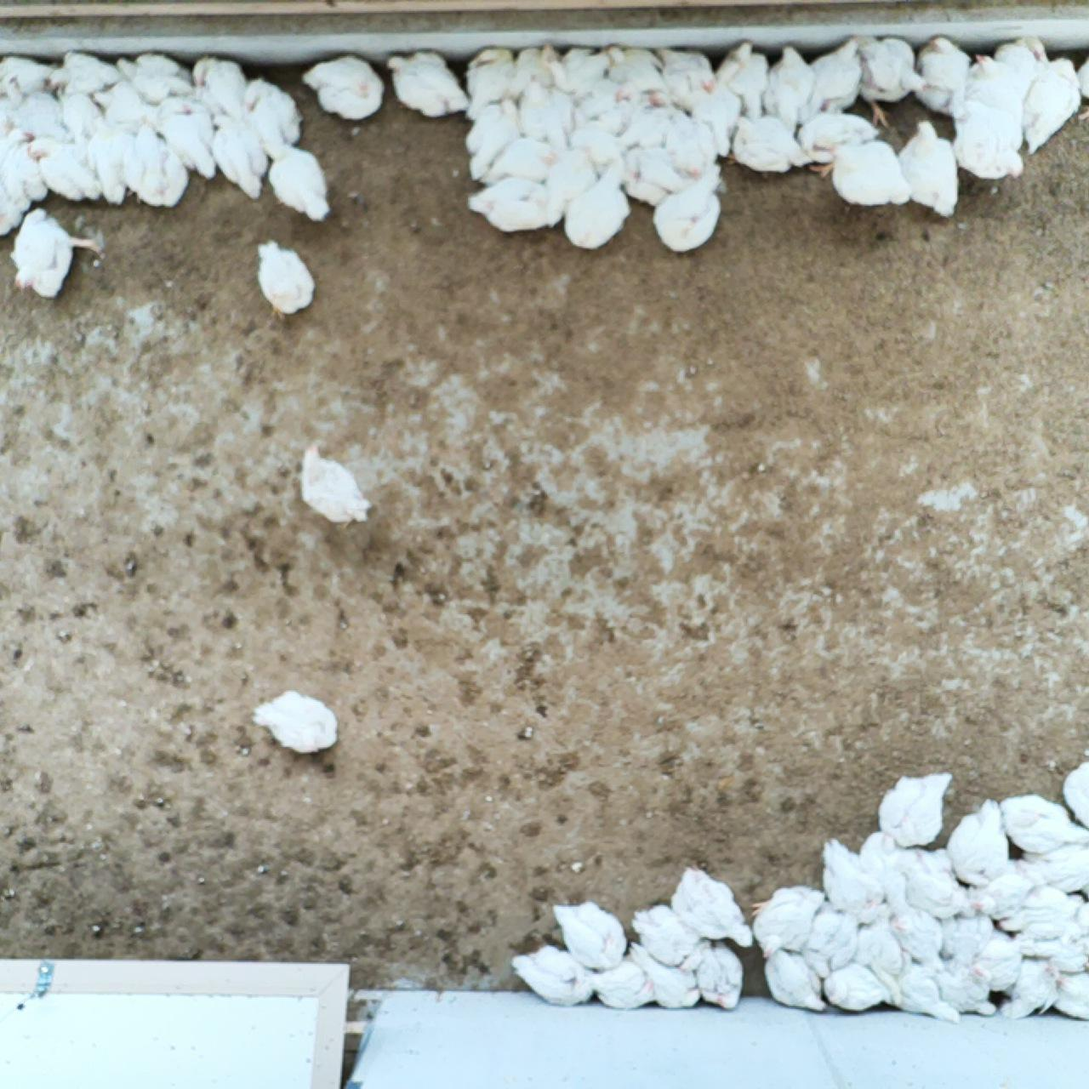chicken: (8, 203, 104, 304), (649, 159, 729, 261), (671, 860, 755, 956), (855, 30, 932, 134), (558, 155, 637, 253), (945, 94, 1029, 186), (259, 134, 340, 226), (894, 115, 962, 221), (941, 794, 1013, 894), (296, 439, 376, 527), (119, 115, 191, 211), (824, 136, 912, 214), (1020, 54, 1085, 158), (875, 767, 955, 851), (149, 94, 223, 183), (466, 175, 573, 236), (384, 47, 473, 120), (747, 882, 827, 963), (997, 785, 1089, 855), (546, 897, 628, 975), (299, 51, 386, 124), (820, 834, 887, 926), (253, 688, 343, 756), (623, 937, 704, 1012), (796, 109, 880, 181), (730, 109, 813, 181), (23, 133, 108, 203), (509, 941, 596, 1009), (891, 844, 968, 920), (210, 110, 272, 202), (893, 944, 964, 1024), (254, 236, 319, 323), (0, 125, 48, 242), (854, 906, 908, 1009), (762, 41, 818, 140), (798, 898, 862, 983), (466, 94, 524, 185), (241, 74, 306, 153), (957, 52, 1029, 123), (917, 30, 975, 118), (681, 936, 747, 1013), (84, 113, 137, 207), (113, 51, 197, 110), (519, 57, 575, 145), (1, 72, 70, 143), (763, 944, 830, 1017), (805, 34, 868, 111), (579, 953, 658, 1014), (718, 36, 773, 123), (462, 44, 521, 125), (998, 885, 1089, 937), (689, 72, 740, 163), (546, 143, 605, 221), (478, 135, 561, 190), (628, 899, 698, 964), (39, 46, 122, 97), (620, 138, 685, 202), (567, 107, 630, 173), (188, 53, 250, 120), (859, 828, 908, 912), (1001, 955, 1061, 1023), (822, 959, 893, 1015), (931, 964, 1002, 1020), (994, 32, 1051, 100), (570, 79, 634, 139), (1013, 926, 1089, 976), (1015, 840, 1089, 891), (662, 117, 720, 181), (969, 870, 1035, 925), (544, 46, 613, 98), (653, 42, 717, 98), (604, 41, 668, 97), (629, 87, 687, 147), (888, 904, 944, 966), (970, 932, 1029, 990), (93, 76, 157, 129), (55, 79, 107, 143), (938, 908, 995, 960), (609, 72, 667, 123), (511, 40, 568, 91), (0, 52, 63, 98), (1057, 756, 1089, 830), (1051, 968, 1089, 1022), (1075, 52, 1089, 101)
